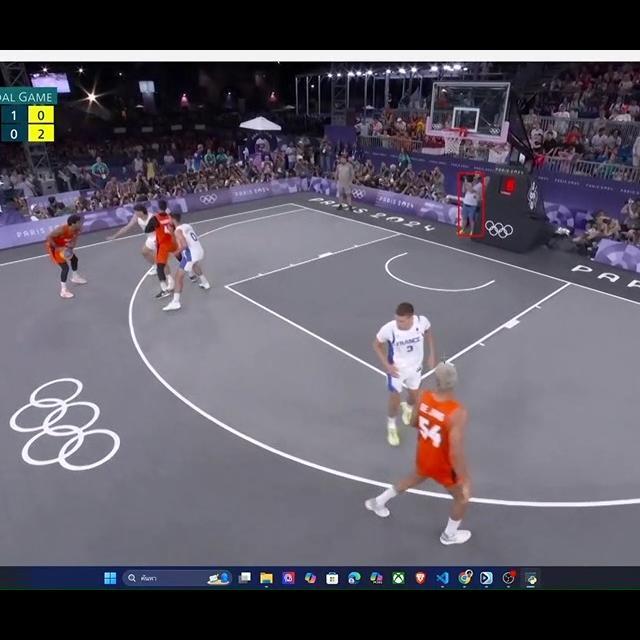basketball: (57, 245, 72, 262)
hoop: (442, 125, 463, 155)
